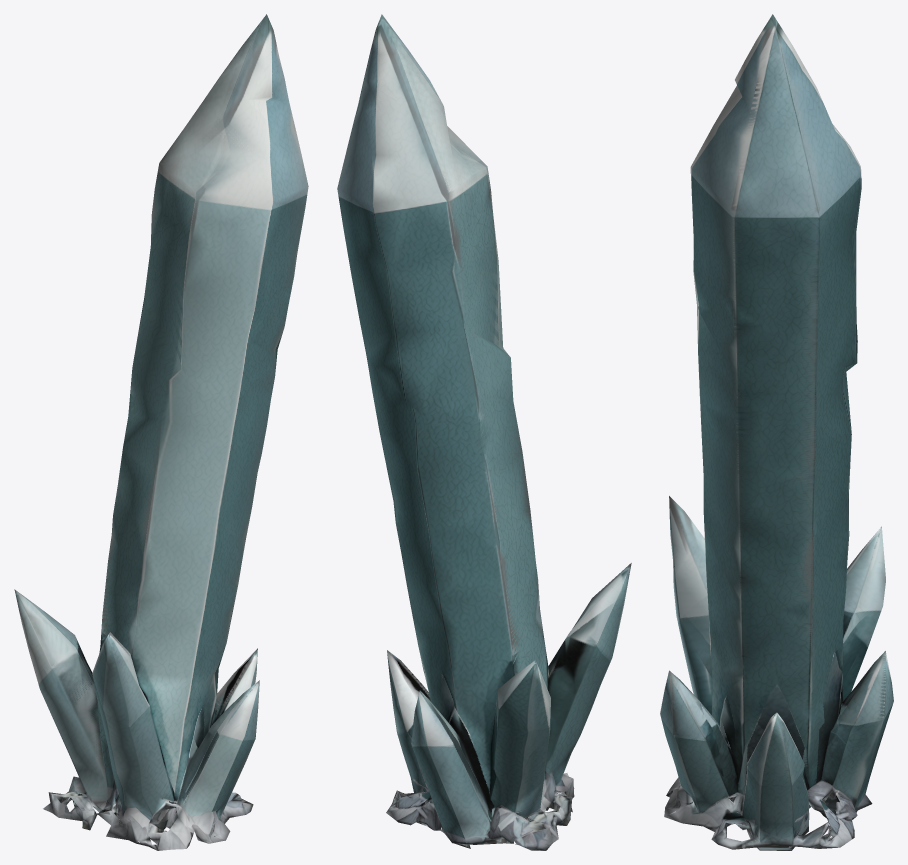
The model's file is PR_IceCrystal_Spike.fbx.
The picture shows the model from 3 angles, left to right: view 1: azimuth 30°, elevation 25°; view 2: azimuth 150°, elevation 25°; view 3: azimuth 270°, elevation 25°; orthographic projection. The views are drawn at different scales.
Visible parts, largest first — view 1: texture_mapping; view 2: texture_mapping; view 3: texture_mapping.
Boxes of the visible parts, bbox=[...] form: texture_mapping: bbox=[14, 14, 308, 850]; texture_mapping: bbox=[337, 14, 631, 850]; texture_mapping: bbox=[660, 14, 893, 850].
Size of the model in its own units: 0.3083 by 0.2478 by 1.01.
1 material, 1 textured.
